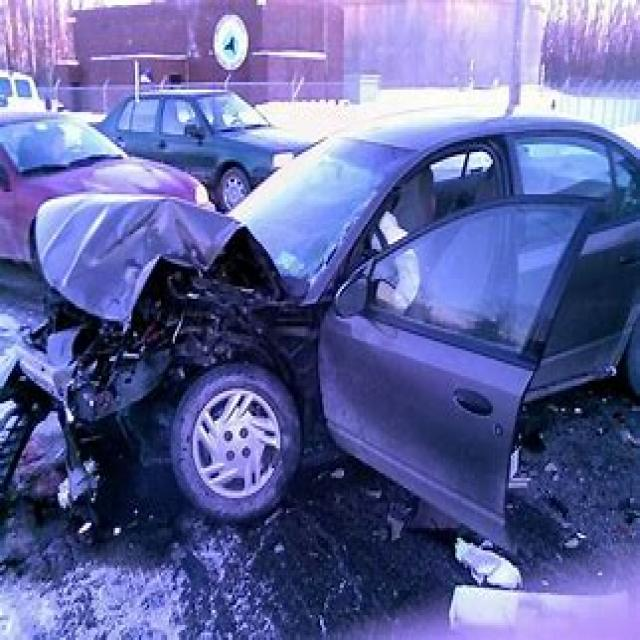Accident: (30, 129, 581, 539)
